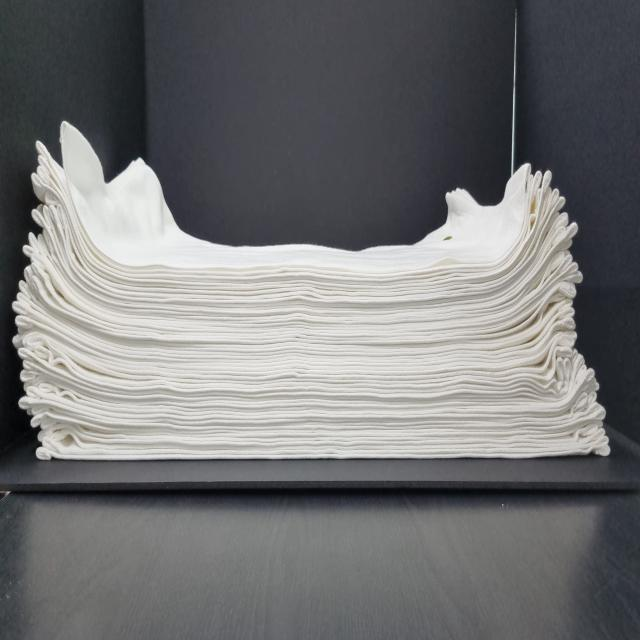50_towel_counts: (1, 108, 639, 482)
